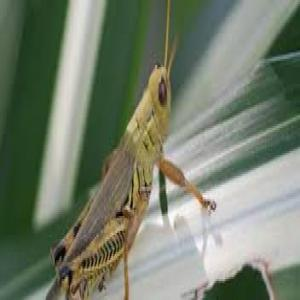locust: (55, 24, 182, 299)
